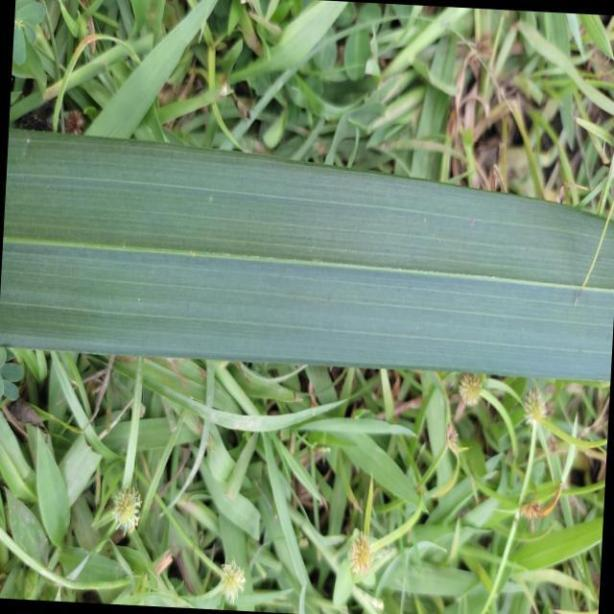Healthy: (0, 123, 614, 382)
